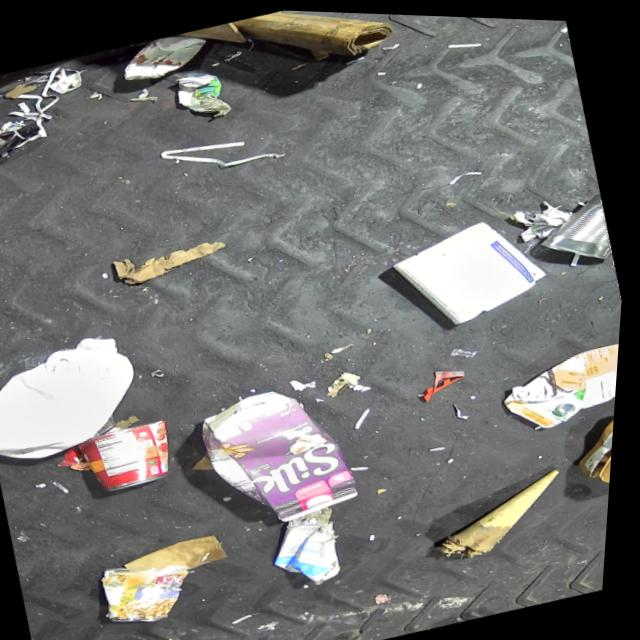can: (102, 545, 210, 632), (79, 412, 188, 498), (532, 184, 619, 269), (117, 23, 215, 85)
milk_jug: (0, 322, 160, 472)
non_white_jug: (191, 369, 374, 537), (495, 327, 624, 434)
